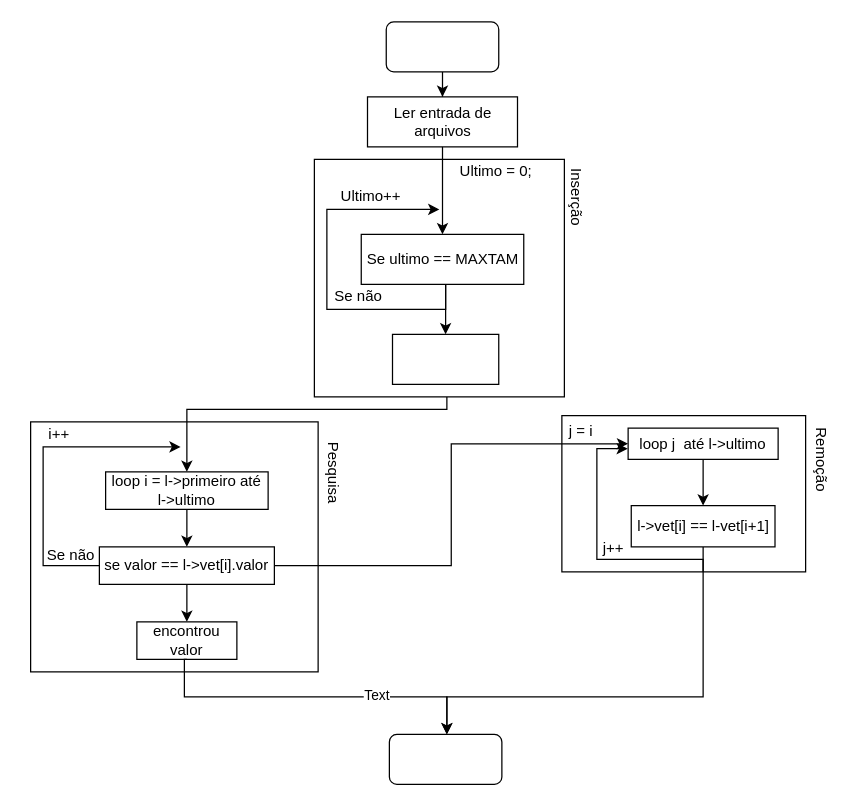
Image size: 855x806. Some labels were removed from this diagram. The shapes that lost their labels are listed below. From the top down, each one's box as (x1, y1, x2, y2) in pixels, then its label:
(385, 21, 499, 72): Início
(391, 333, 499, 384): Lista cheia
(388, 733, 502, 784): Fim
